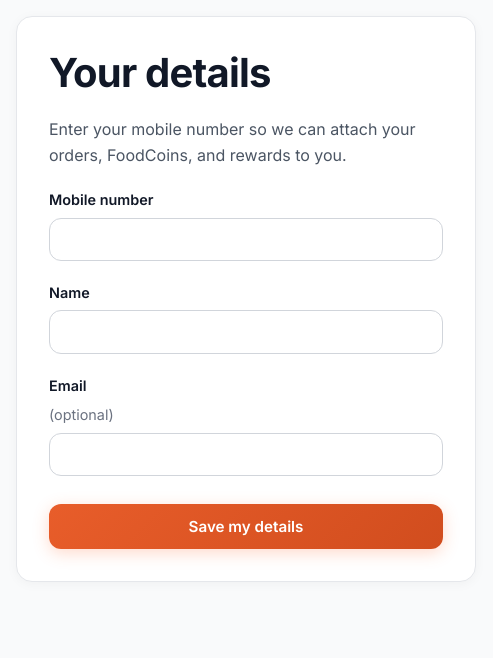
Test: CustomerForm INVALID_MOBILE › shows the invalid-mobile error inline and stores no identity
Type "123" into the field with test id "profile-mobile". click: (246,239)
box: 49,218 -> 443,261
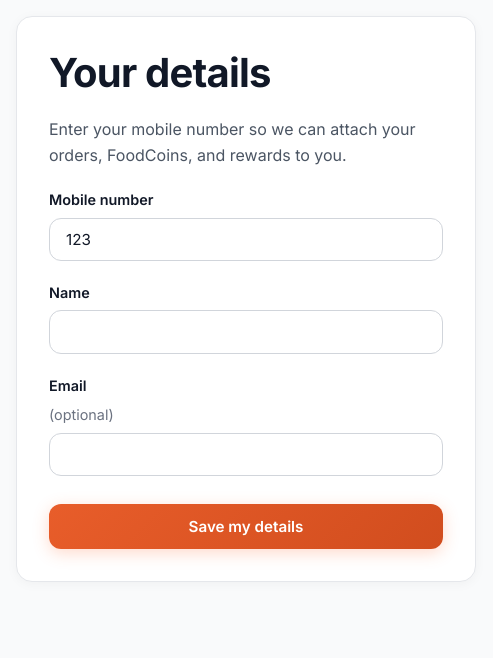
Type "Asha" into the field with test id "profile-name". click: (246,332)
box: 49,310 -> 443,354
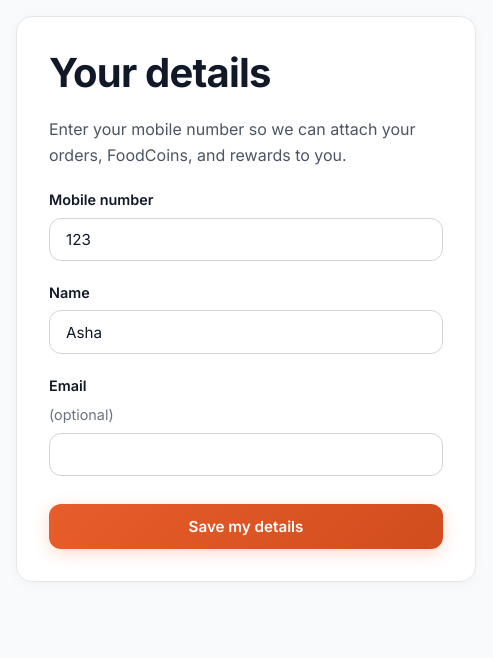
Click the button with test id "profile-submit". click: (246,526)
box: 49,504 -> 443,549
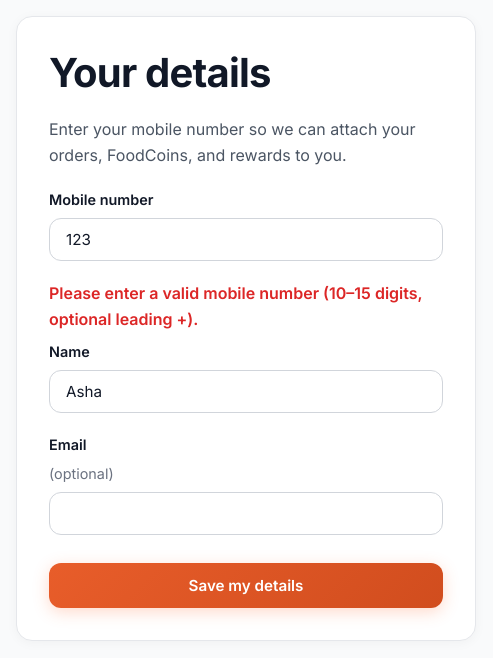
Expected: the message with test id "profile-mobile-error" shows "valid mobile number", 49,283 -> 422,329
